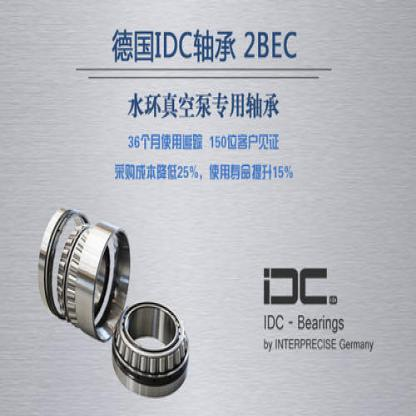FOD: (110, 295, 190, 399)
